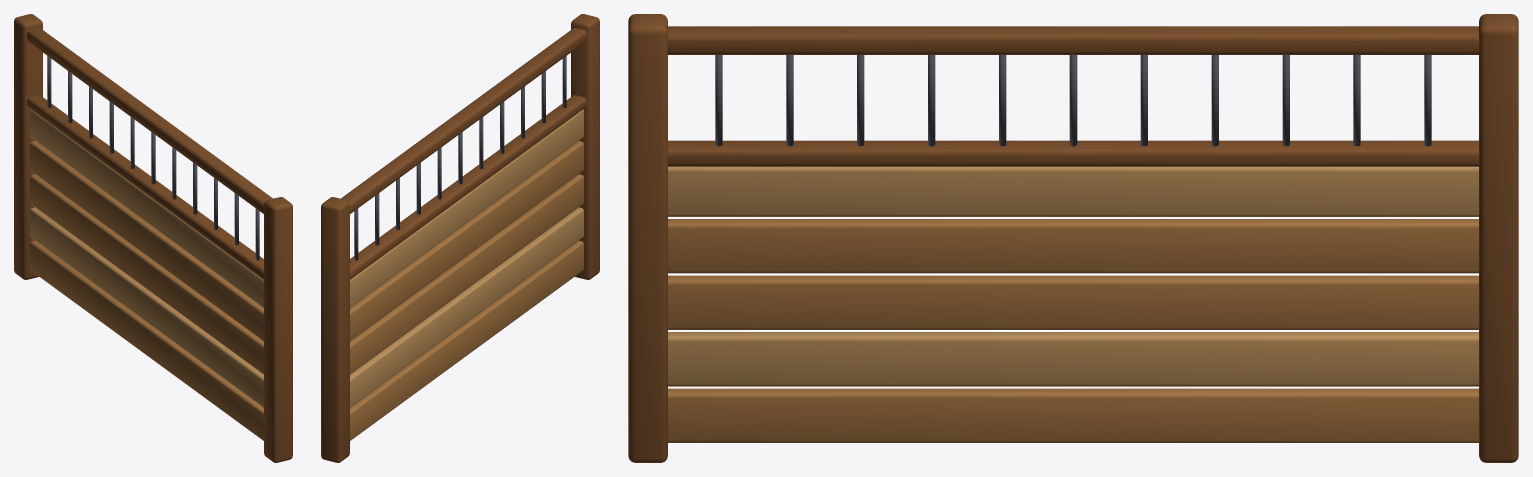
Rendered from stall_divider.glb.
The picture shows the model from 3 angles, left to right: view 1: azimuth 30°, elevation 25°; view 2: azimuth 150°, elevation 25°; view 3: azimuth 270°, elevation 25°; orthographic projection. The views are drawn at different scales.
Visible parts, largest first — view 1: stall_divider; view 2: stall_divider; view 3: stall_divider.
Boxes of the visible parts, left/top/right/bottom form: stall_divider: left=14, top=14, right=292, bottom=462; stall_divider: left=321, top=14, right=599, bottom=462; stall_divider: left=628, top=14, right=1518, bottom=462.
Bounding box in the file's own units: 0.14 × 1.7 × 3.14.
